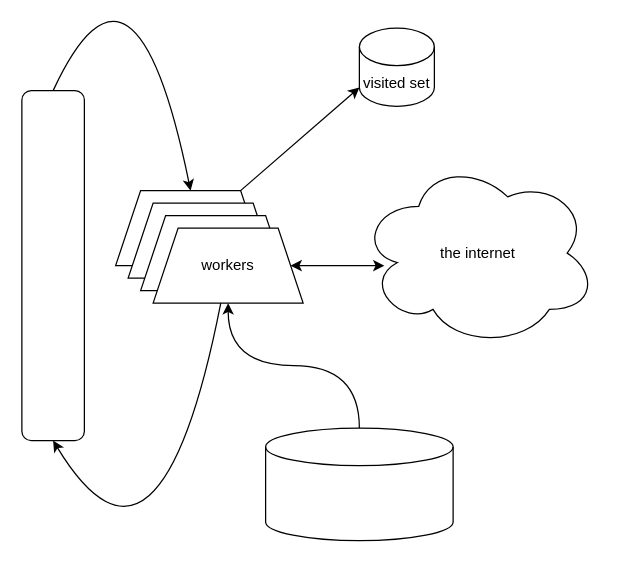
Image size: 619x564. Some labels were removed from this diagram. Here are the shapes that lost their labels. From the top down, the centre of each, then its label:
At point 52,265: "URL Queue".
At point 358,484: "Main webpage storage".
